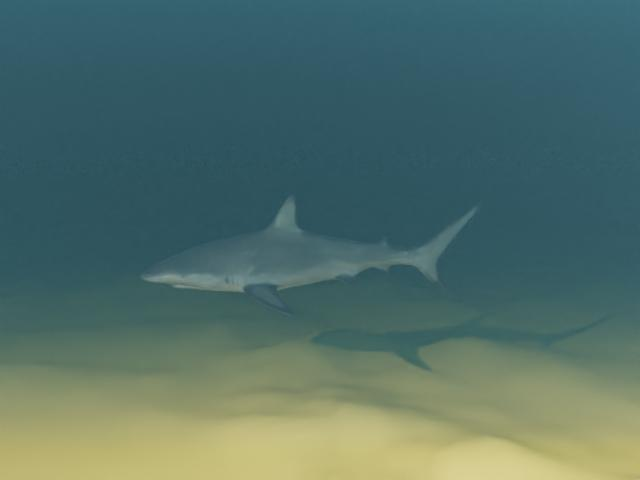Carribean Shark.001: (140, 194, 484, 315)
